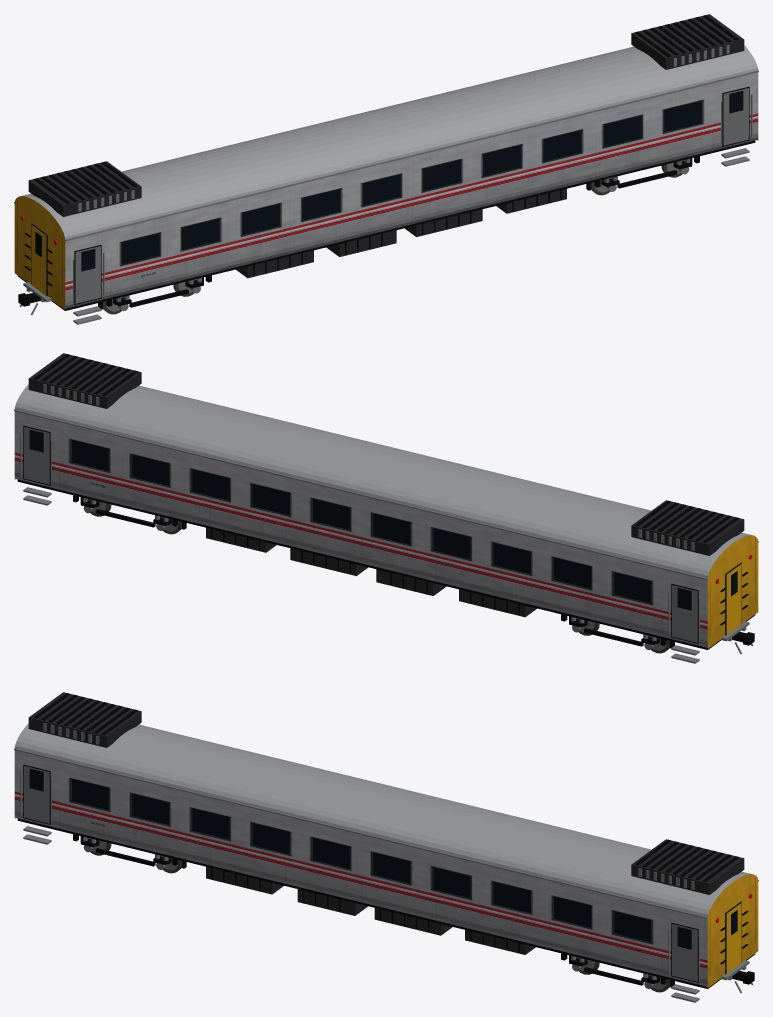
The model's file is cnr_ans.glb.
3 renders of one model, top to bottom at view 1: azimuth 30°, elevation 25°; view 2: azimuth 150°, elevation 25°; view 3: azimuth 330°, elevation 25°, orthographic.
Parts seen in each view (by area): view 1: CNR_ANS; view 2: CNR_ANS; view 3: CNR_ANS.
Part boxes in pixels (x1=…): CNR_ANS: x1=14, y1=14, x2=758, y2=324; CNR_ANS: x1=14, y1=353, x2=758, y2=663; CNR_ANS: x1=14, y1=692, x2=758, y2=1002.
Bounding box in the file's own units: 24.24 × 4.11 × 3.12.
10 materials, 1 textured.
